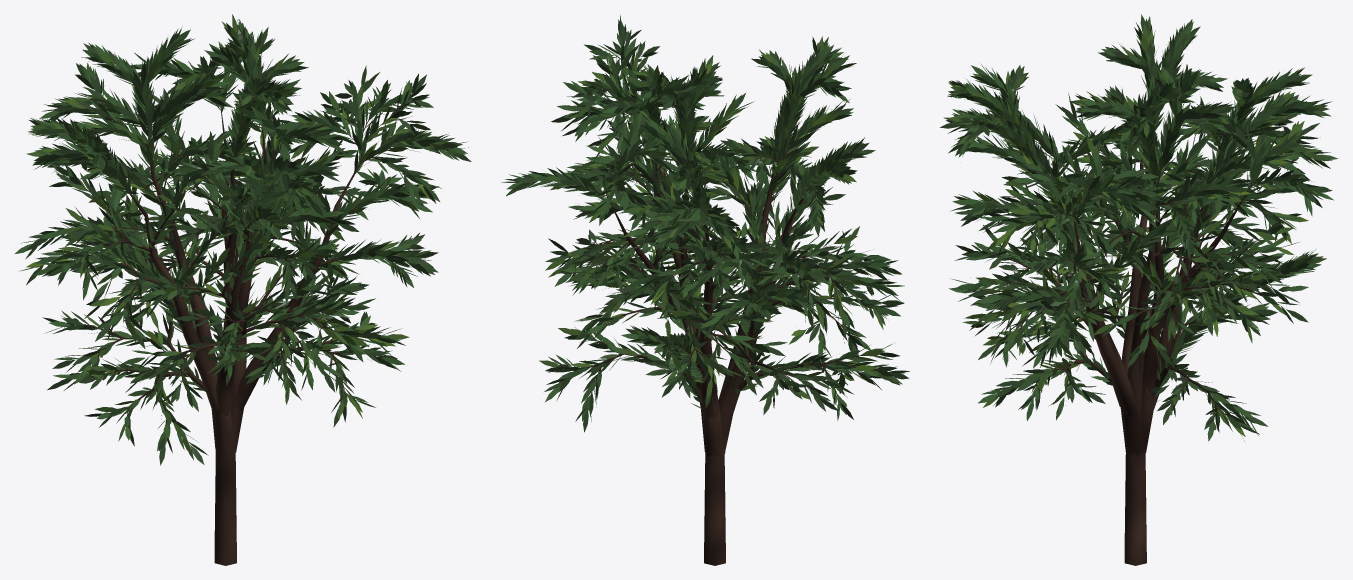
Rendered from tree3.glb.
The picture shows the model from 3 angles, left to right: view 1: azimuth 30°, elevation 25°; view 2: azimuth 150°, elevation 25°; view 3: azimuth 270°, elevation 25°; orthographic projection. The views are drawn at different scales.
Parts seen in each view (by area): view 1: leaves.002, tree.001; view 2: leaves.002, tree.001; view 3: leaves.002, tree.001.
Part boxes in pixels (x1,y1,x2,y2): leaves.002: [15, 14, 471, 465]; tree.001: [59, 74, 439, 565]; leaves.002: [501, 15, 909, 432]; tree.001: [563, 55, 876, 565]; leaves.002: [939, 14, 1338, 441]; tree.001: [985, 91, 1302, 565].
Bounding box in the file's own units: 8.13 × 10.64 × 7.49.
Materials: 2 (2 with a texture image).
